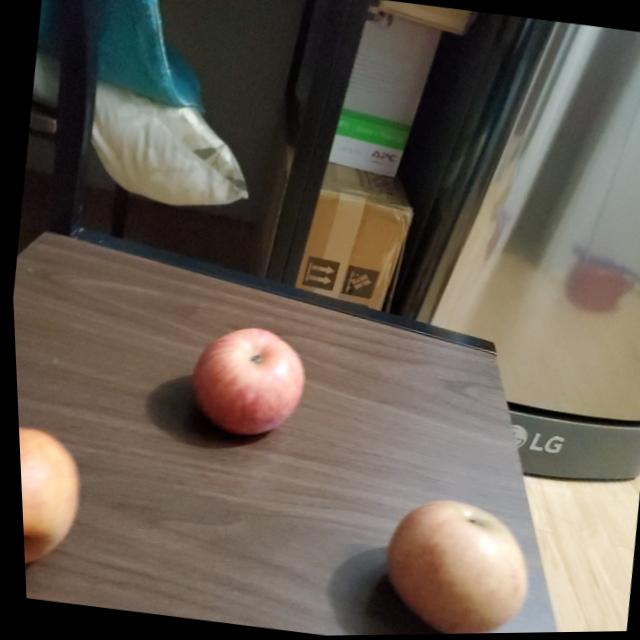apple: (369, 495, 537, 636), (181, 322, 309, 446), (15, 420, 83, 583)
